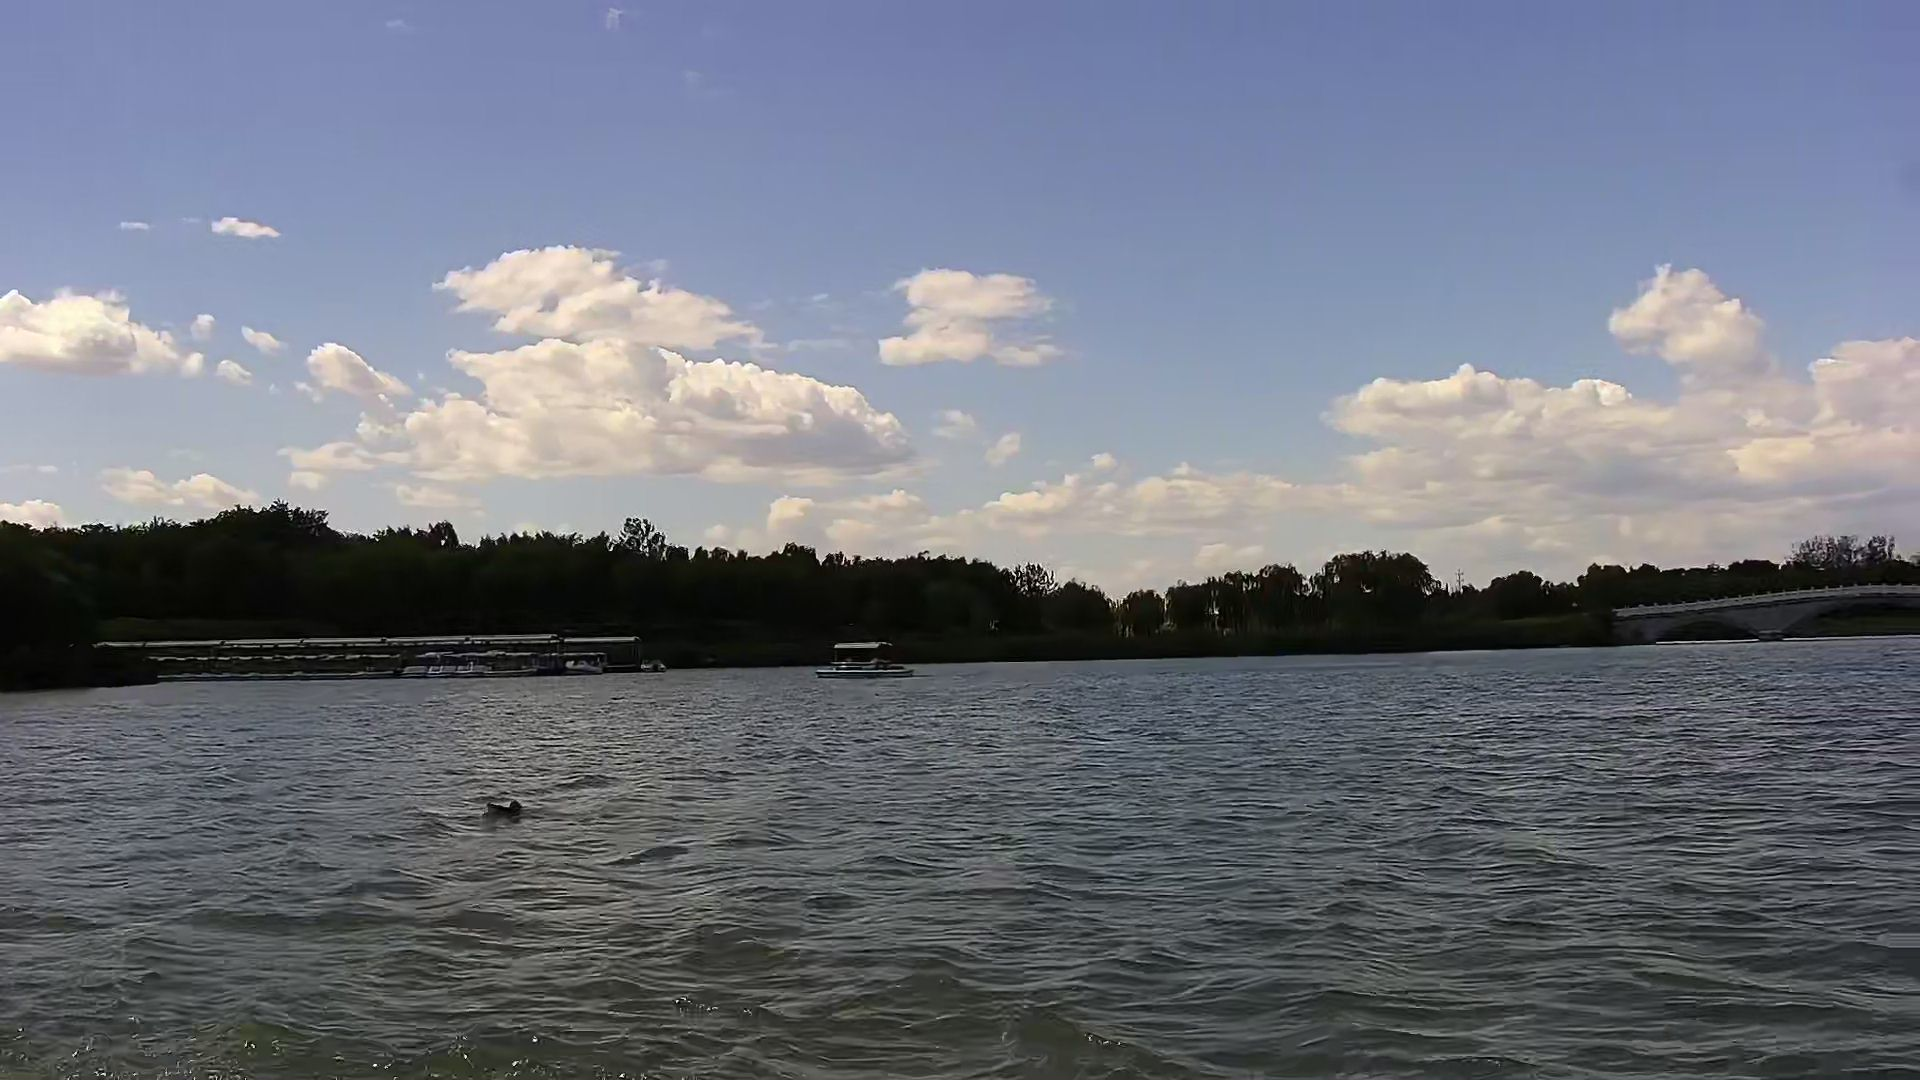animal: (477, 781, 529, 827)
bridge: (1625, 570, 1919, 655)
harbor: (115, 621, 644, 690)
ship: (818, 626, 916, 683)
